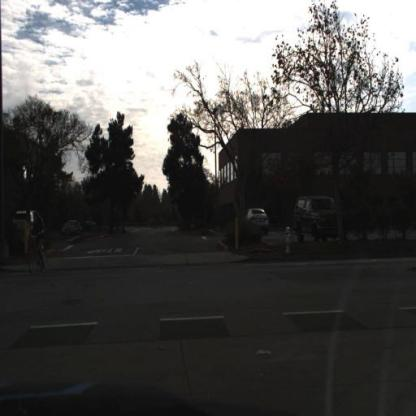biker: (30, 212, 48, 276)
car: (292, 190, 349, 243), (9, 210, 43, 239), (246, 205, 271, 239), (60, 217, 83, 242)
